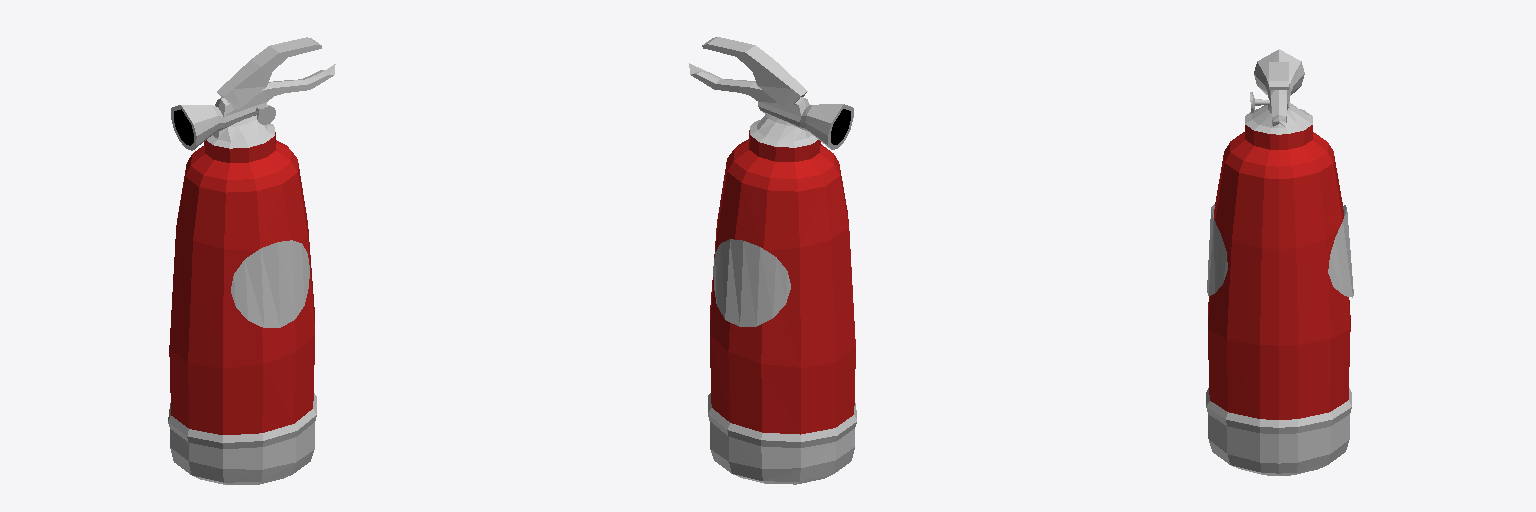
File: fire_ext.obj
3 views of the same model, side by side, from view 1: azimuth 30°, elevation 25°; view 2: azimuth 150°, elevation 25°; view 3: azimuth 270°, elevation 25° (orthographic).
Parts seen in each view (by area): view 1: fire_ext; view 2: fire_ext; view 3: fire_ext.
Part boxes in pixels (left/top/right/bottom): fire_ext: left=168, top=37, right=335, bottom=484; fire_ext: left=689, top=37, right=856, bottom=484; fire_ext: left=1206, top=49, right=1353, bottom=475.
Size of the model in its own units: 0.2117 by 0.5168 by 0.1709.